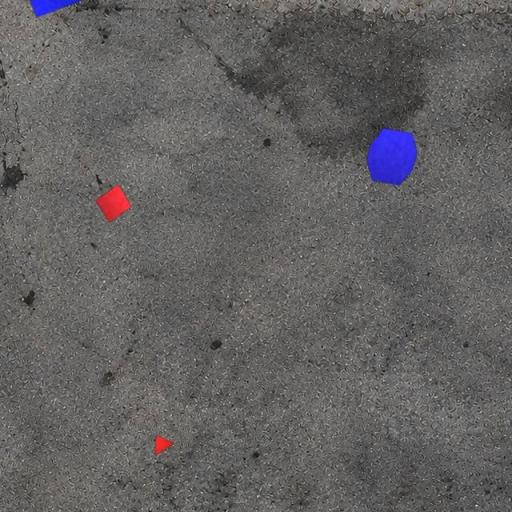RED_SQUARE: (94, 184, 132, 223)
